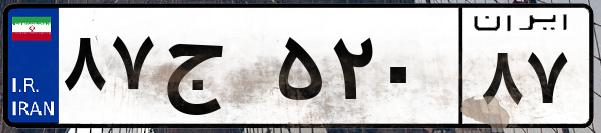0: (385, 28, 445, 110)
2: (330, 28, 385, 110)
5: (270, 28, 330, 110)
7: (525, 38, 570, 115), (110, 28, 158, 98)
8: (57, 26, 110, 100), (475, 38, 525, 113)
ج: (158, 20, 270, 120)
